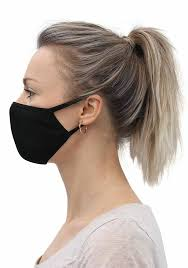with-mask: (9, 25, 151, 178)
